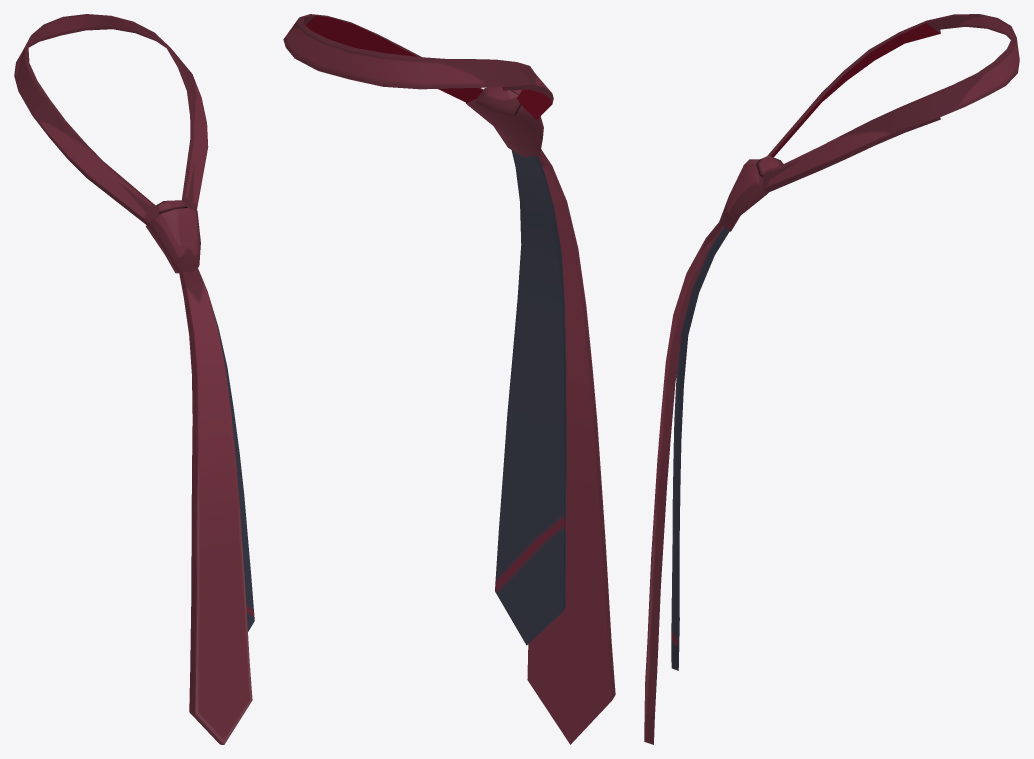
Rendered from W_Tie.glb.
The picture shows the model from 3 angles, left to right: view 1: azimuth 30°, elevation 25°; view 2: azimuth 150°, elevation 25°; view 3: azimuth 270°, elevation 25°; orthographic projection. The views are drawn at different scales.
Parts seen in each view (by area): view 1: W_Tie; view 2: W_Tie; view 3: W_Tie.
Part boxes in pixels (x1,y1,x2,y2): W_Tie: [14, 14, 254, 744]; W_Tie: [283, 14, 615, 744]; W_Tie: [644, 14, 1019, 744].
Size of the model in its own units: 0.1313 by 0.4802 by 0.2307.
Materials: 1 (1 with a texture image).
